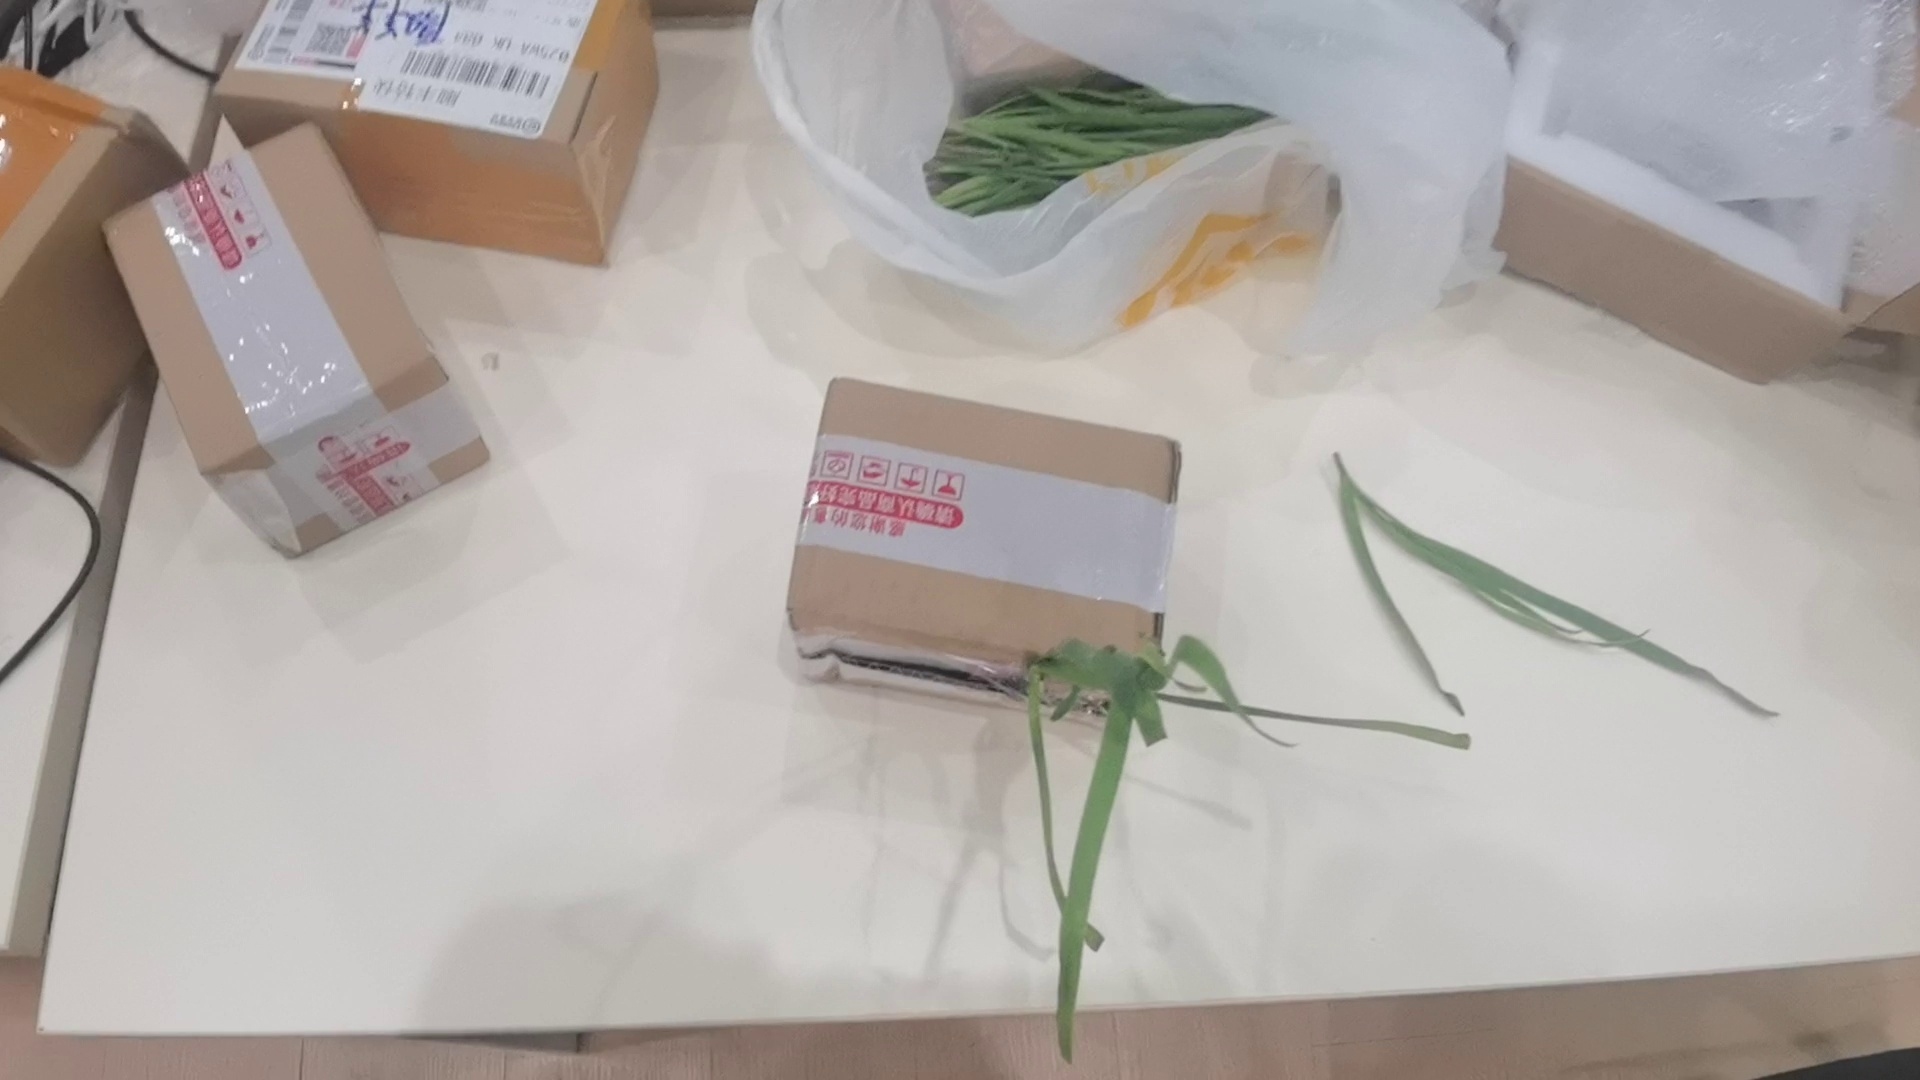chives: (980, 622, 1573, 1067), (1319, 436, 1805, 717)
